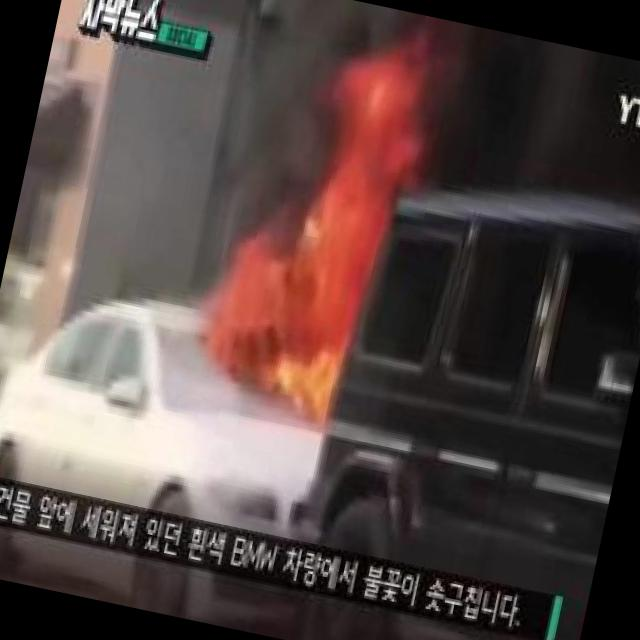Fire: (179, 0, 462, 431)
